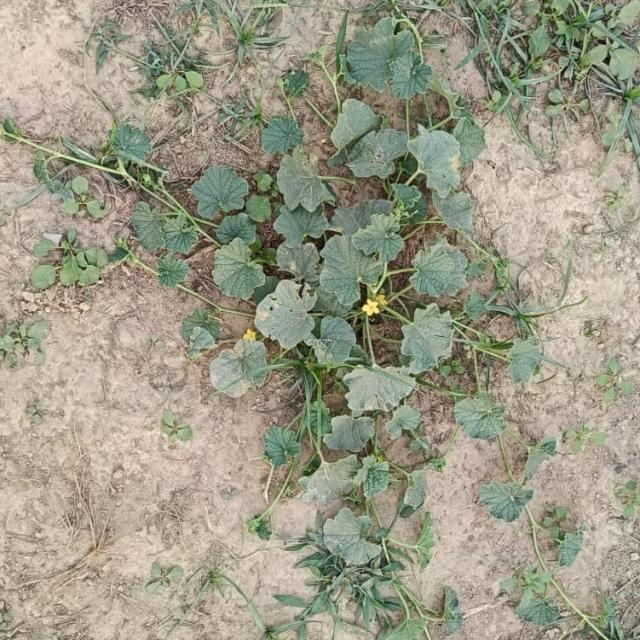plant: (0, 14, 557, 638), (31, 232, 106, 288)
